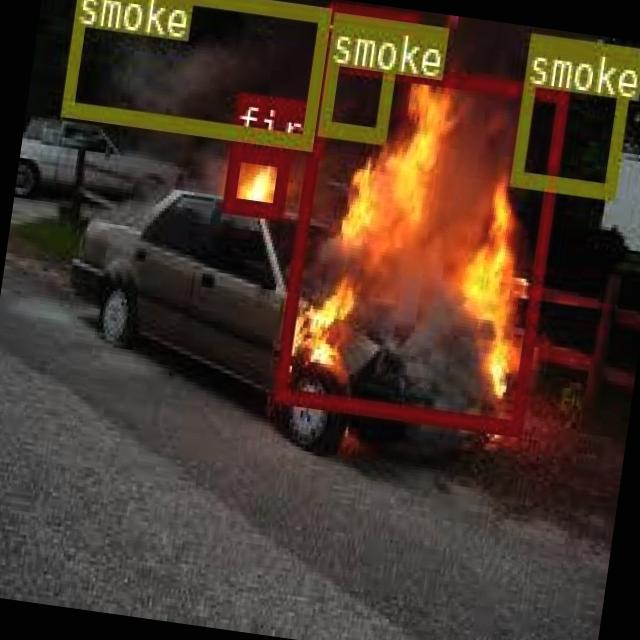fire: (272, 52, 566, 433), (221, 143, 290, 217)
smoke: (59, 0, 329, 148), (509, 31, 633, 198), (317, 11, 400, 140)
